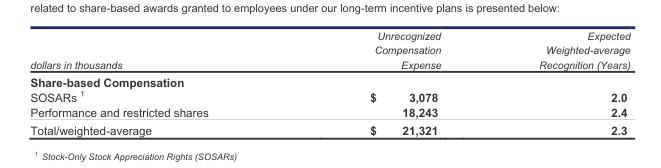table: (29, 29, 629, 136)
table column: (29, 29, 288, 136), (288, 29, 489, 136), (489, 29, 629, 136)
table column header: (29, 29, 629, 72)
table projected row header: (29, 72, 629, 88)
table row: (29, 29, 629, 72), (29, 72, 629, 88), (29, 88, 629, 104), (29, 104, 629, 120), (29, 120, 629, 136)
